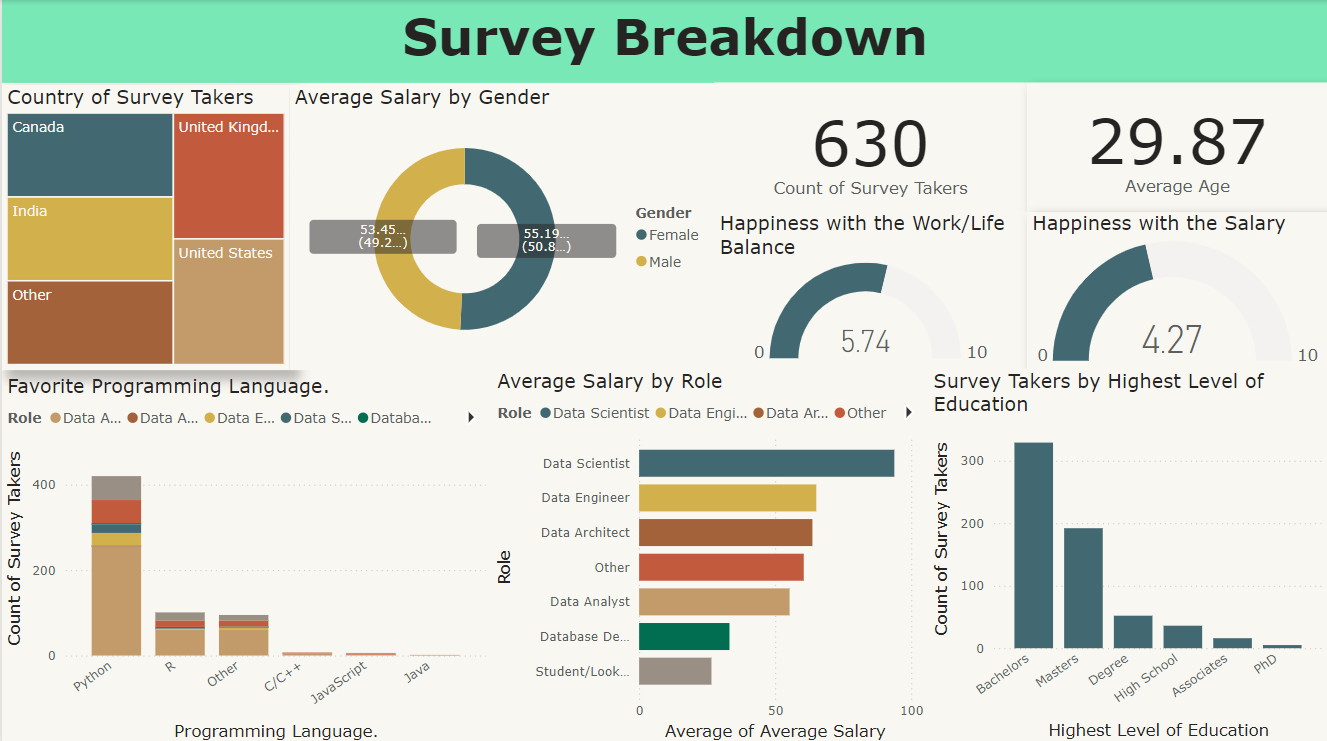

Layout of this report page (visuals, bound fields, positions):
{"tool":"powerbi","page":{"name":"Page 1","canvas":[1280,720],"ordinal":0},"visuals":[{"type":"textbox","box":[0,0,1280.3,80.1],"z":0},{"type":"card","fields":{"Values":["Count(Data Professional Survey.Unique ID)"]},"box":[687.7,79.6,301.6,129.1],"z":1},{"type":"card","fields":{"Values":["Avg(Data Professional Survey.Q10 - Current Age)"]},"box":[989.3,79.6,290.8,124.3],"z":2},{"type":"barChart","title":"Average Salary by Role","fields":{"Category":["Data Professional Survey.Q1 - Which Title Best Fits your Current Role?.1"],"Y":["Avg(Data Professional Survey.Average Salary)"],"Series":["Data Professional Survey.Q1 - Which Title Best Fits your Current Role?.1"]},"box":[472.6,356.4,421.9,363.1],"z":3},{"type":"columnChart","title":"Favorite Programming Language.","fields":{"Category":["Data Professional Survey.Q5 - Favorite Programming Language.1"],"Y":["Count(Data Professional Survey.Unique ID)"],"Series":["Data Professional Survey.Q1 - Which Title Best Fits your Current Role?.1"]},"box":[0,360.5,472.6,359.1],"z":4},{"type":"treemap","title":"Country of Survey Takers","fields":{"Group":["Data Professional Survey.Q11 - Which Country do you live in?.1"],"Values":["Count(Data Professional Survey.Q11 - Which Country do you live in?.1)"]},"box":[0,81.4,277.7,275],"z":5},{"type":"gauge","title":"Happiness with the Work/Life Balance","fields":{"Y":["Avg(Data Professional Survey.Q6 - How Happy are you in your Current Position with the following? (Work/Life Balance))"],"MinValue":["Min(Data Professional Survey.Q6 - How Happy are you in your Current Position with the following? (Work/Life Balance))"],"MaxValue":["Max(Data Professional Survey.Q6 - How Happy are you in your Current Position with the following? (Work/Life Balance))1"]},"box":[687.5,204.3,301.7,152.2],"z":6},{"type":"gauge","title":"Happiness with the Salary","fields":{"Y":["Avg(Data Professional Survey.Q6 - How Happy are you in your Current Position with the following? (Salary))"],"MinValue":["Min(Data Professional Survey.Q6 - How Happy are you in your Current Position with the following? (Salary))"],"MaxValue":["Max(Data Professional Survey.Q6 - How Happy are you in your Current Position with the following? (Salary))1"]},"box":[989.2,204.3,291,156.2],"z":7},{"type":"donutChart","title":"Average Salary by Gender","fields":{"Y":["Avg(Data Professional Survey.Average Salary)"],"Category":["Data Professional Survey.Q9 - Male/Female?"]},"box":[277.7,81.4,409.8,275],"z":8},{"type":"clusteredColumnChart","title":"Survey Takers by Highest Level of Education","fields":{"Category":["Data Professional Survey.Q12 - Highest Level of Education"],"Y":["CountNonNull(Data Professional Survey.Unique ID)"]},"box":[894.5,356.4,385.8,363.1],"z":9}]}

Visuals, with their boxes in screenshot pixels (x1, y1, x2, y2), scaled from the page's 1280x720 canvas onto the 1327x741 screenshot:
textbox: <bbox>0, 0, 1326, 82</bbox>
card - Count(Data Professional Survey.Unique ID): <bbox>713, 82, 1026, 215</bbox>
card - Avg(Data Professional Survey.Q10 - Current Age): <bbox>1026, 82, 1326, 210</bbox>
"Average Salary by Role" barChart: <bbox>490, 367, 927, 740</bbox>
"Favorite Programming Language." columnChart: <bbox>0, 371, 490, 740</bbox>
"Country of Survey Takers" treemap: <bbox>0, 84, 288, 367</bbox>
"Happiness with the Work/Life Balance" gauge: <bbox>713, 210, 1026, 367</bbox>
"Happiness with the Salary" gauge: <bbox>1026, 210, 1326, 371</bbox>
"Average Salary by Gender" donutChart: <bbox>288, 84, 713, 367</bbox>
"Survey Takers by Highest Level of Education" clusteredColumnChart: <bbox>927, 367, 1326, 740</bbox>
